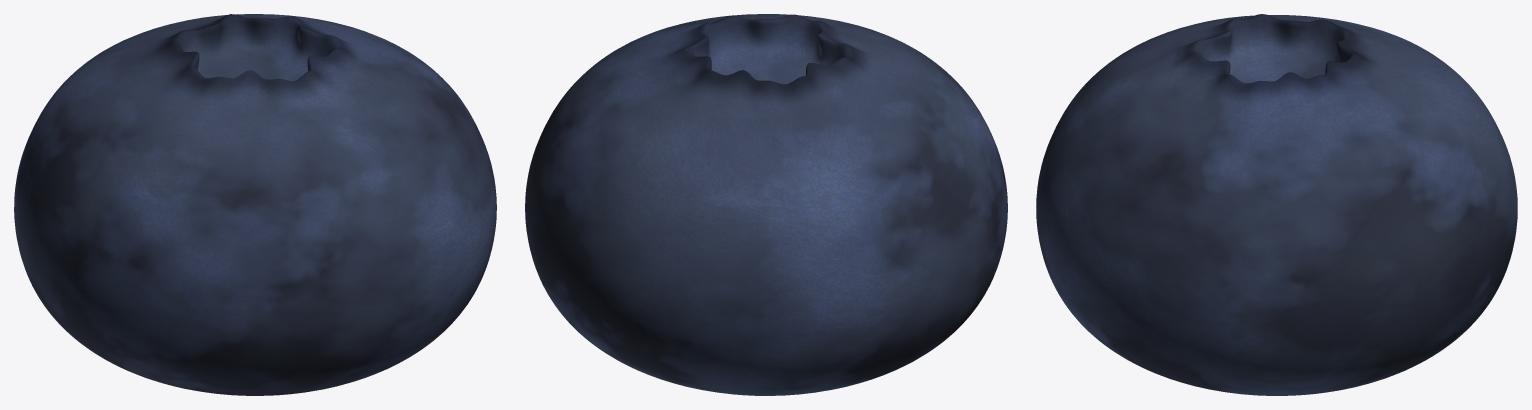
File: Blueberry.fbx
3 views of the same model, side by side, from view 1: azimuth 30°, elevation 25°; view 2: azimuth 150°, elevation 25°; view 3: azimuth 270°, elevation 25° (orthographic).
Parts seen in each view (by area): view 1: Blueberry_Baked; view 2: Blueberry_Baked; view 3: Blueberry_Baked.
Boxes of the visible parts, x1,y1,x2,y2 form: Blueberry_Baked: (14, 14, 496, 395); Blueberry_Baked: (525, 14, 1007, 395); Blueberry_Baked: (1036, 14, 1517, 395).
Size of the model in its own units: 1.96 by 1.37 by 1.96.
1 material, 1 textured.
